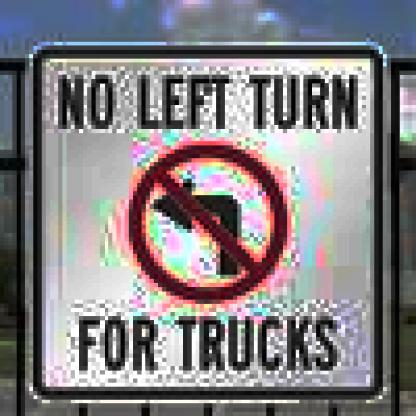No left turn: (128, 139, 286, 293)
